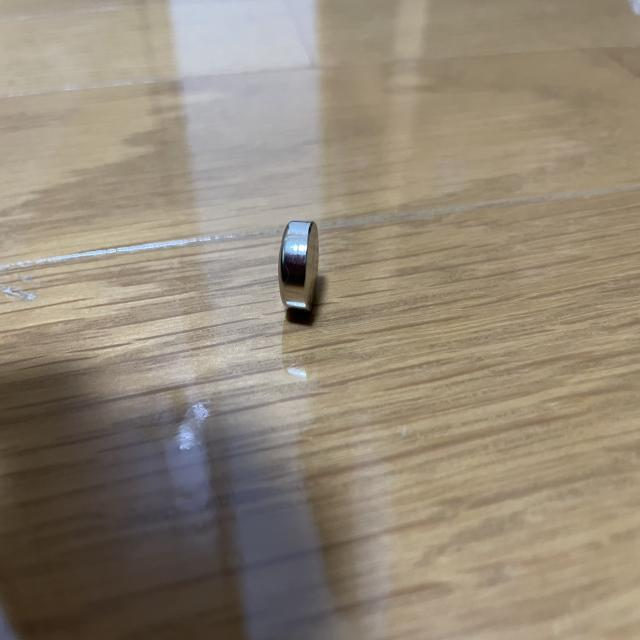COIN: (278, 218, 321, 314)
